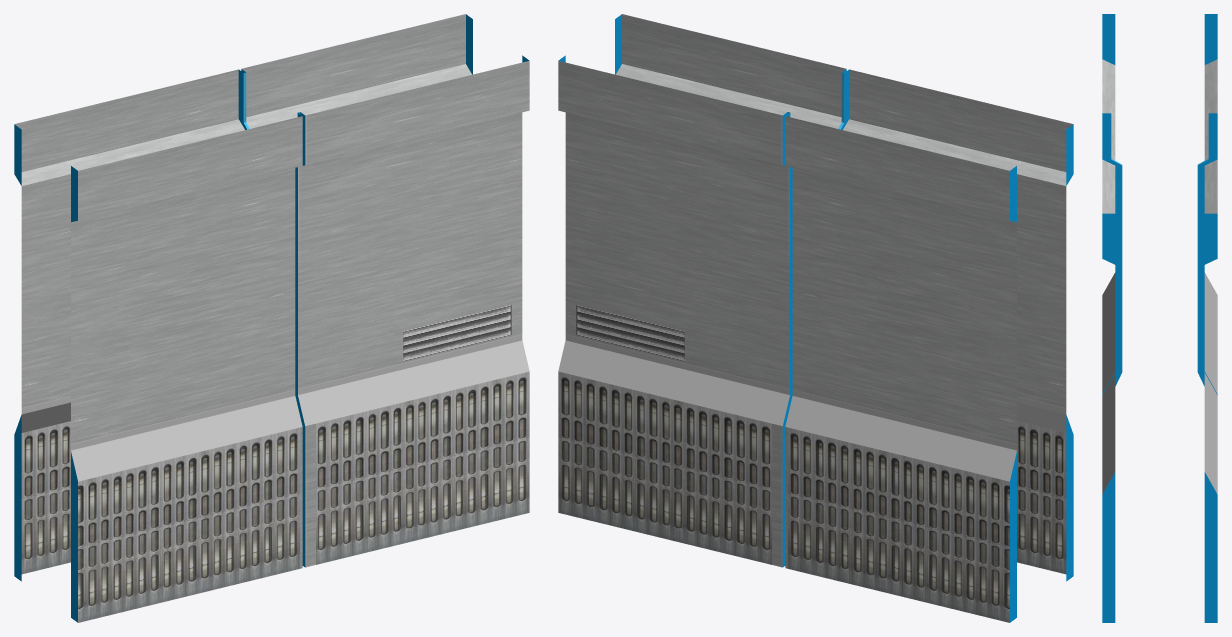
File: machine wall.glb
The picture shows the model from 3 angles, left to right: view 1: azimuth 30°, elevation 25°; view 2: azimuth 150°, elevation 25°; view 3: azimuth 270°, elevation 25°; orthographic projection. The views are drawn at different scales.
Parts seen in each view (by area): view 1: machine_wall; view 2: machine_wall; view 3: machine_wall.
Boxes of the visible parts, left/top/right/bottom form: machine_wall: left=14, top=14, right=529, bottom=622; machine_wall: left=558, top=14, right=1073, bottom=622; machine_wall: left=1102, top=14, right=1217, bottom=622.
Bounding box in the file's own units: 5.16 × 4.94 × 1.26.
1 material, 1 textured.
